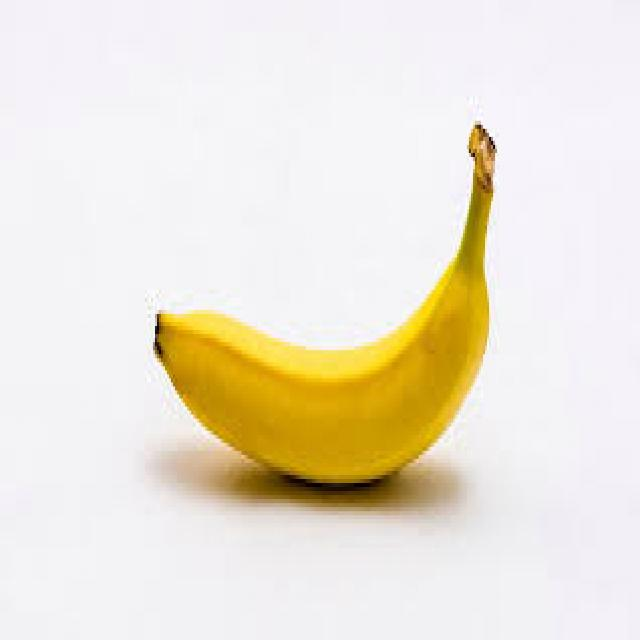organic waste: (151, 117, 493, 487)
